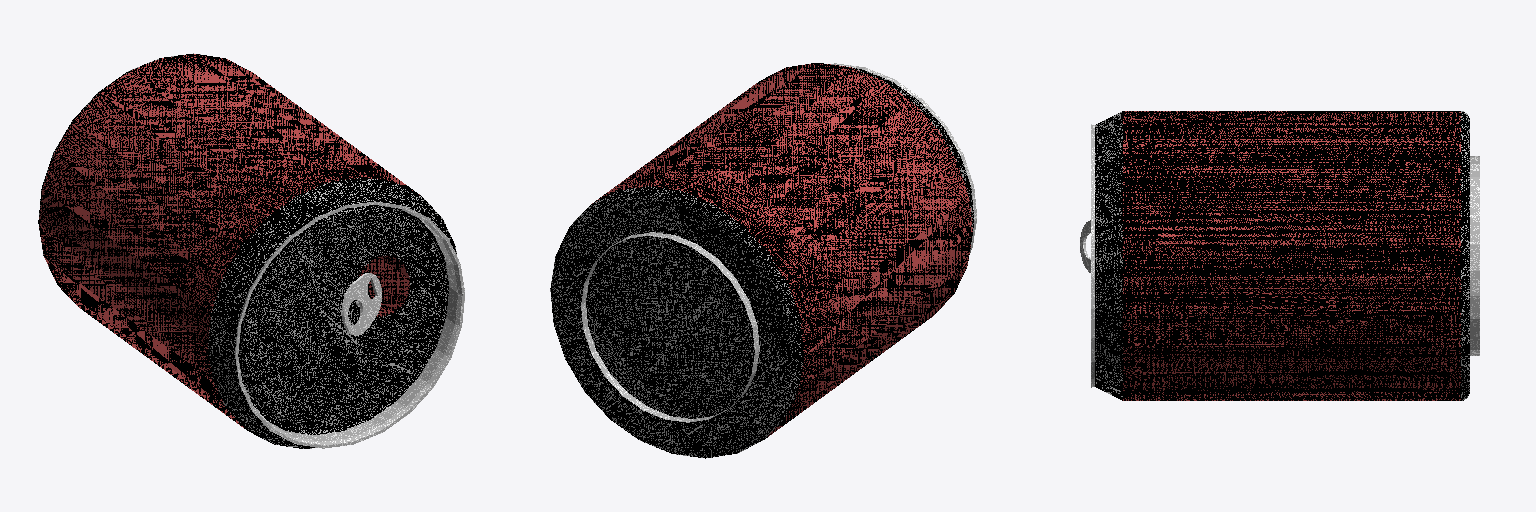
Rendered from model_scale.obj.
3 views of the same model, side by side, from view 1: azimuth 30°, elevation 25°; view 2: azimuth 150°, elevation 25°; view 3: azimuth 270°, elevation 25° (orthographic).
Visible parts, largest first — view 1: mesh1_mesh1-geometry, mesh2_mesh2-geometry; view 2: mesh1_mesh1-geometry; view 3: mesh1_mesh1-geometry.
Boxes of the visible parts, box(x1,y1,x2,y2) form: mesh1_mesh1-geometry: box(38, 53, 464, 448); mesh2_mesh2-geometry: box(342, 273, 381, 335); mesh1_mesh1-geometry: box(550, 63, 976, 458); mesh1_mesh1-geometry: box(1091, 111, 1479, 400).
Size of the model in its own units: 0.0889 by 0.0889 by 0.1217.